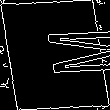M_W: (4, 30, 106, 80)
